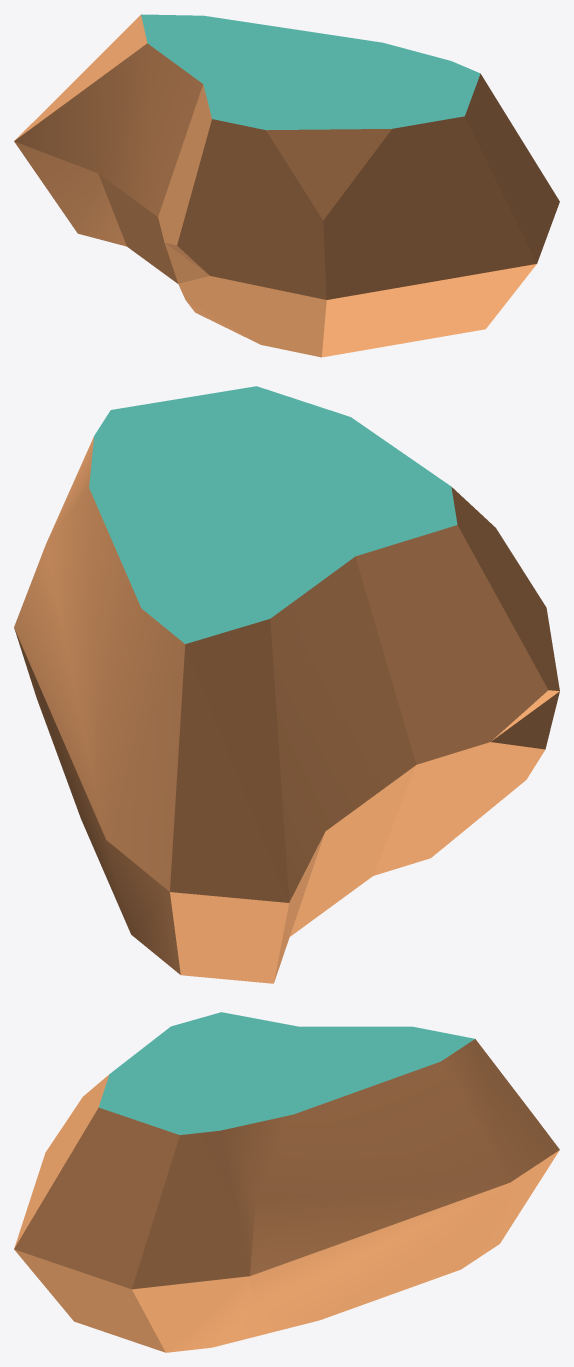
The model's file is rock_large2.obj.
3 renders of one model, top to bottom at view 1: azimuth 30°, elevation 25°; view 2: azimuth 150°, elevation 25°; view 3: azimuth 270°, elevation 25°, orthographic. The views are drawn at different scales.
Visible parts, largest first — view 1: rock_large2; view 2: rock_large2; view 3: rock_large2.
Part boxes in pixels (x1,y1,x2,y2): rock_large2: [14, 14, 559, 357]; rock_large2: [14, 386, 559, 983]; rock_large2: [14, 1012, 559, 1352].
Bounding box in the file's own units: 7.67 × 4.3 × 10.15.
